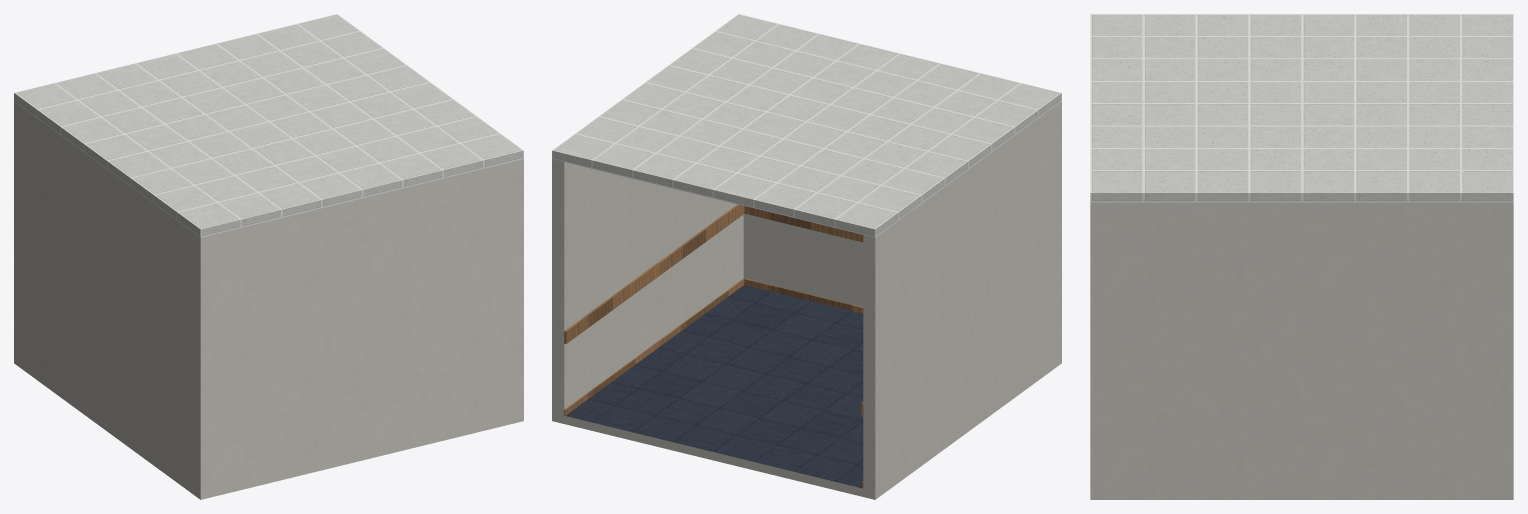
Rendered from Corridor_Office_End_NoLight.glb.
The picture shows the model from 3 angles, left to right: view 1: azimuth 30°, elevation 25°; view 2: azimuth 150°, elevation 25°; view 3: azimuth 270°, elevation 25°; orthographic projection. The views are drawn at different scales.
Parts seen in each view (by area): view 1: Corridor_Office_End_NoLight, Corridor_Office_End_NoLight_Ceiling; view 2: Corridor_Office_End_NoLight, Corridor_Office_End_NoLight_Ceiling; view 3: Corridor_Office_End_NoLight, Corridor_Office_End_NoLight_Ceiling.
Boxes of the visible parts, x1=… form: Corridor_Office_End_NoLight: x1=14, y1=101, x2=523, y2=499; Corridor_Office_End_NoLight_Ceiling: x1=14, y1=14, x2=523, y2=237; Corridor_Office_End_NoLight: x1=552, y1=101, x2=1061, y2=499; Corridor_Office_End_NoLight_Ceiling: x1=552, y1=14, x2=1061, y2=237; Corridor_Office_End_NoLight: x1=1090, y1=202, x2=1513, y2=499; Corridor_Office_End_NoLight_Ceiling: x1=1090, y1=14, x2=1513, y2=202.
Size of the model in its own units: 4 by 3.2 by 4.
Materials: 4 (4 with a texture image).
